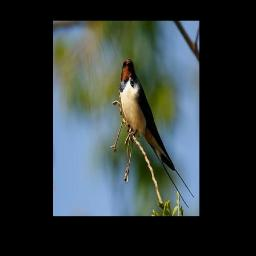Swallow: (121, 57, 195, 209)
